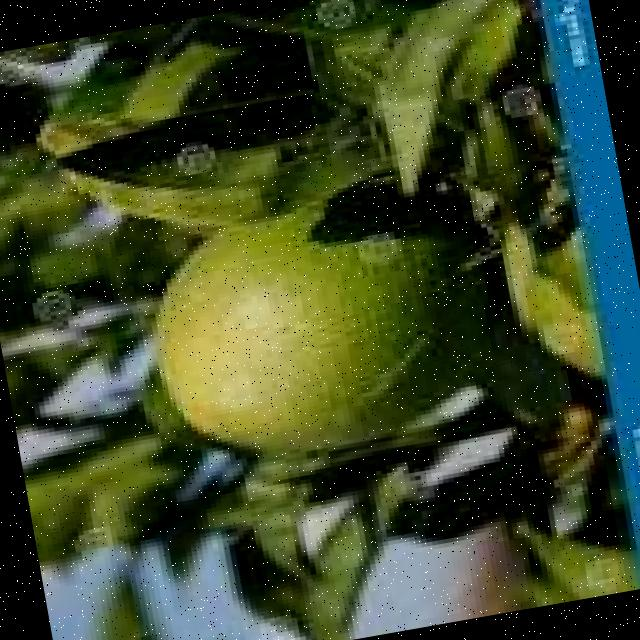Unripe: (130, 168, 516, 474)
